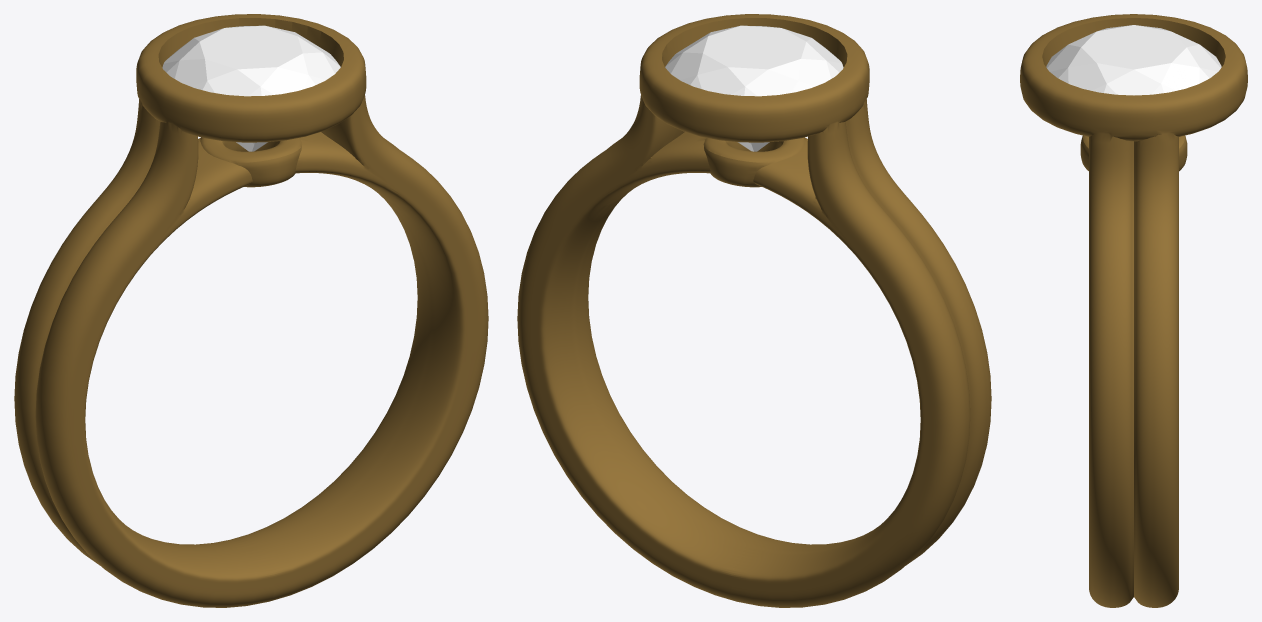
The picture shows the model from 3 angles, left to right: view 1: azimuth 30°, elevation 25°; view 2: azimuth 150°, elevation 25°; view 3: azimuth 270°, elevation 25°; orthographic projection.
Parts seen in each view (by area): view 1: object 1, PART0001; view 2: object 1, PART0001; view 3: object 1, PART0001.
Boxes of the visible parts, <box> form: object 1: <box>14,14,488,607</box>; PART0001: <box>162,25,340,151</box>; object 1: <box>517,14,991,607</box>; PART0001: <box>665,25,843,151</box>; object 1: <box>1020,14,1247,607</box>; PART0001: <box>1046,25,1221,95</box>.
Size of the model in its own units: 2.49 by 2.92 by 1.12.
